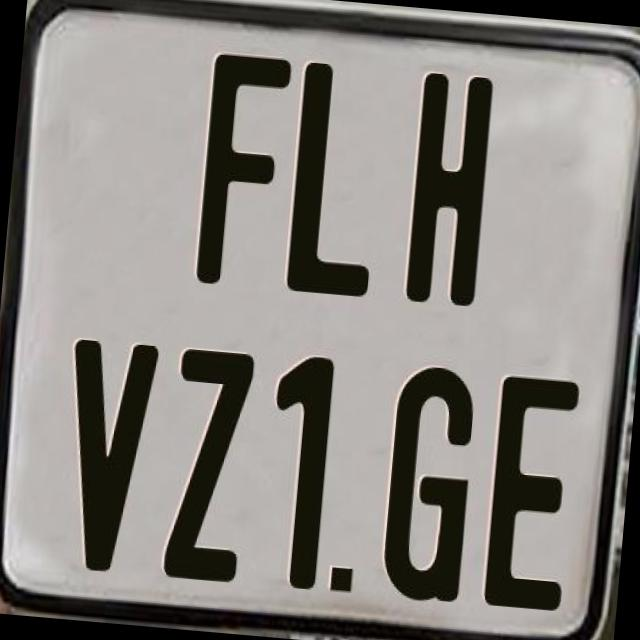1: (259, 354, 339, 593)
E: (478, 371, 576, 610)
F: (190, 52, 290, 291)
G: (380, 360, 480, 598)
H: (404, 72, 494, 316)
L: (282, 56, 383, 294)
V: (54, 336, 162, 578)
Z: (160, 348, 258, 586)
